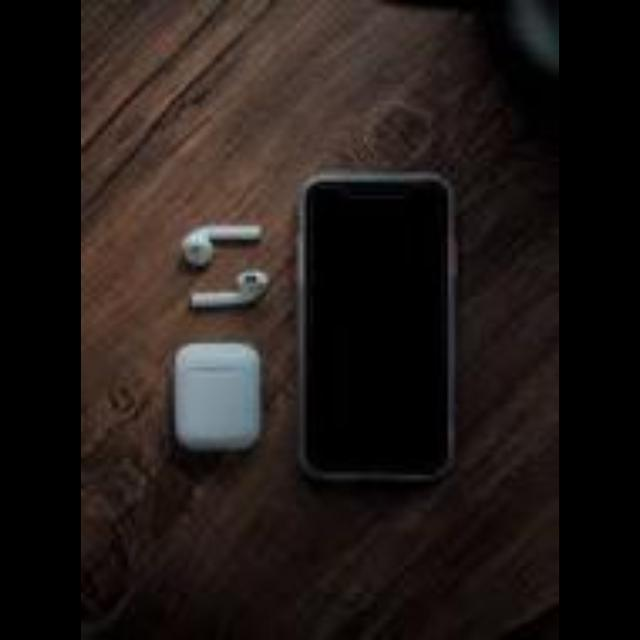phone: (289, 160, 468, 504)
